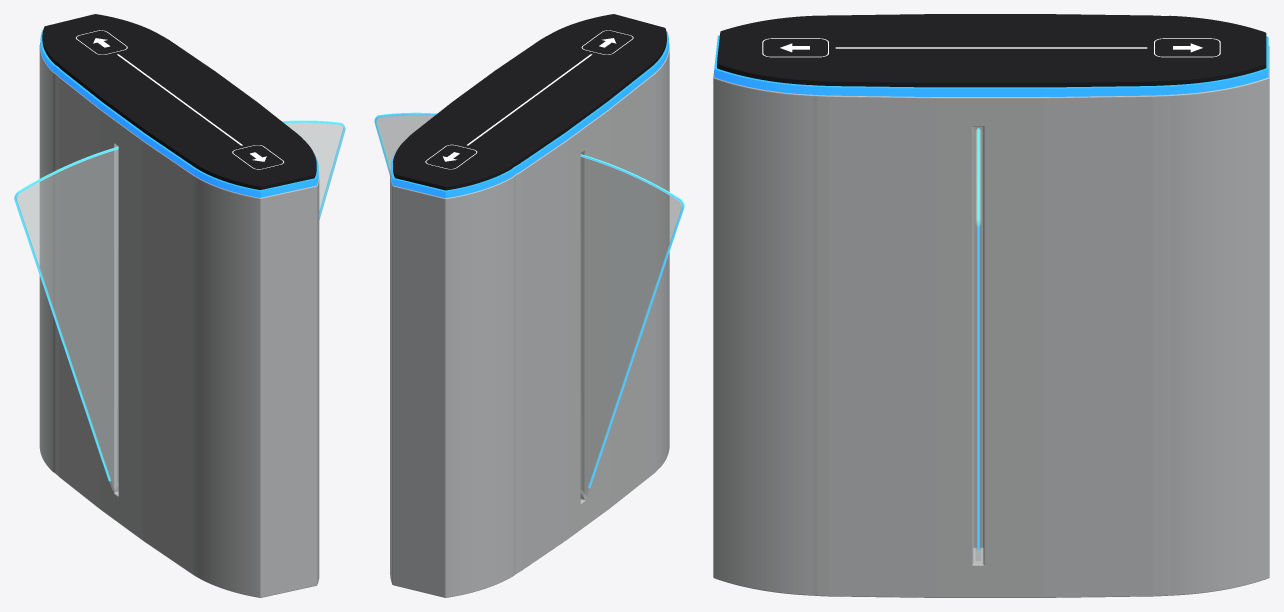
File: hg02_center_unit.glb
The picture shows the model from 3 angles, left to right: view 1: azimuth 30°, elevation 25°; view 2: azimuth 150°, elevation 25°; view 3: azimuth 270°, elevation 25°; orthographic projection. The views are drawn at different scales.
Parts seen in each view (by area): view 1: HG02_Body_SS304, HG02_TopLid_BlackGlass, HG02_Wing_Glass_B, HG02_LED_Band, HG02_Wing_Glass_A, HG02_Wing_EdgeLED_B, HG02_Wing_EdgeLED_A; view 2: HG02_Body_SS304, HG02_TopLid_BlackGlass, HG02_Wing_Glass_B, HG02_LED_Band, HG02_Wing_Glass_A, HG02_Wing_EdgeLED_B; view 3: HG02_Body_SS304, HG02_TopLid_BlackGlass, HG02_LED_Band, HG02_Wing_Glass_A, HG02_Wing_EdgeLED_A.
Part boxes in pixels (x1,y1,x2,y2): HG02_Body_SS304: (39, 43, 319, 597); HG02_TopLid_BlackGlass: (42, 14, 316, 189); HG02_Wing_Glass_B: (16, 149, 118, 491); HG02_LED_Band: (40, 30, 318, 197); HG02_Wing_Glass_A: (284, 122, 345, 219); HG02_Wing_EdgeLED_B: (14, 146, 118, 481); HG02_Wing_EdgeLED_A: (282, 120, 345, 220); HG02_Body_SS304: (390, 43, 669, 597); HG02_TopLid_BlackGlass: (393, 14, 666, 190); HG02_Wing_Glass_B: (580, 156, 682, 498); HG02_LED_Band: (391, 31, 668, 198); HG02_Wing_Glass_A: (375, 114, 434, 174); HG02_Wing_EdgeLED_B: (580, 154, 684, 488); HG02_Body_SS304: (713, 45, 1269, 597); HG02_TopLid_BlackGlass: (717, 14, 1266, 87); HG02_LED_Band: (714, 35, 1268, 96); HG02_Wing_Glass_A: (975, 129, 981, 560); HG02_Wing_EdgeLED_A: (977, 128, 979, 549).
Bounding box in the file's own units: 0.8308 × 1.02 × 0.9999.
